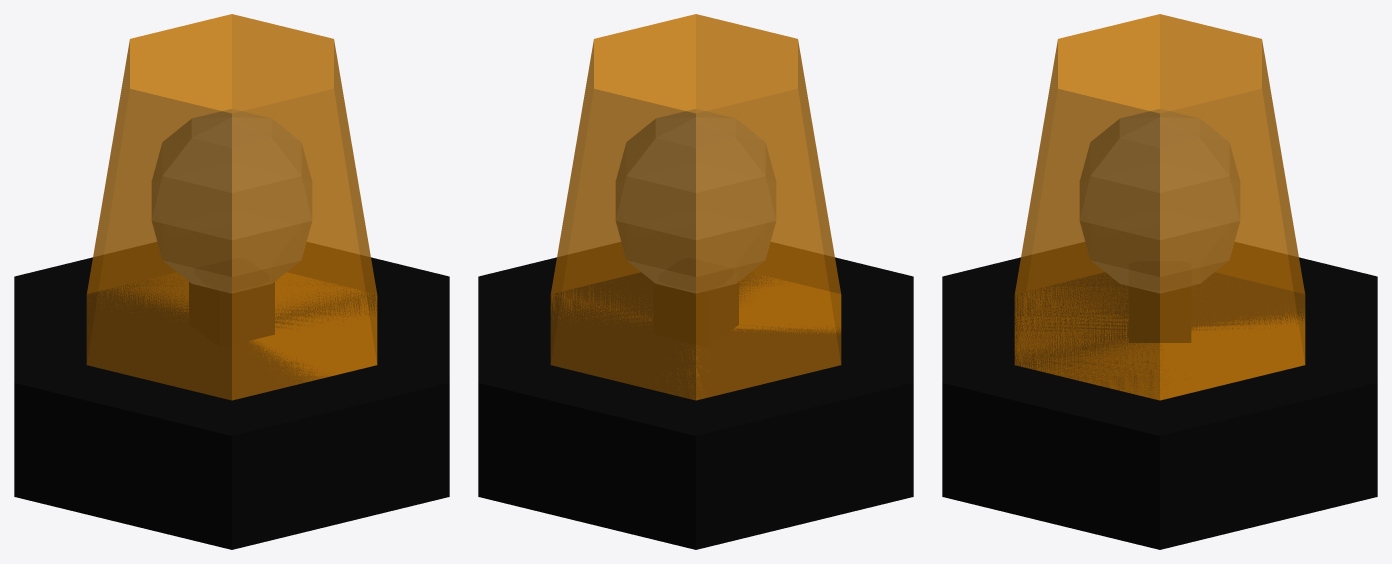
Rendered from AlarmLight.fbx.
3 views of the same model, side by side, from view 1: azimuth 30°, elevation 25°; view 2: azimuth 150°, elevation 25°; view 3: azimuth 270°, elevation 25° (orthographic).
Parts seen in each view (by area): view 1: Bulb3; view 2: Bulb3; view 3: Bulb3.
Part boxes in pixels (box(x1,y1,x2,y2)): Bulb3: box(14, 14, 449, 549); Bulb3: box(478, 14, 913, 549); Bulb3: box(942, 14, 1377, 549).
Bounding box in the file's own units: 120 × 100 × 104.
